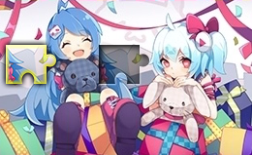gap: (99, 46, 149, 84)
